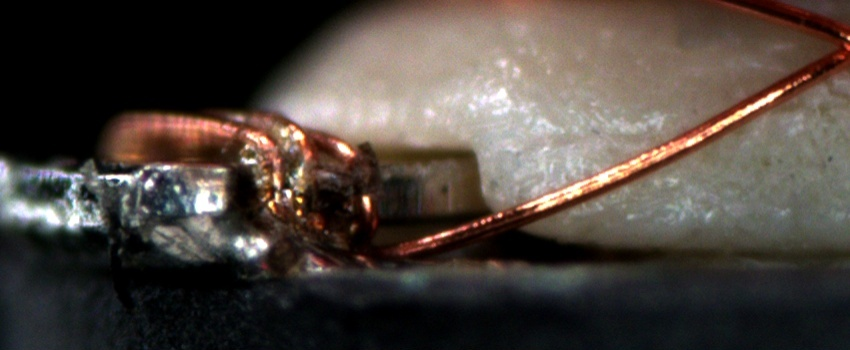CL: (824, 20, 850, 68)
DL: (513, 109, 661, 168)
TE: (100, 100, 384, 243)
